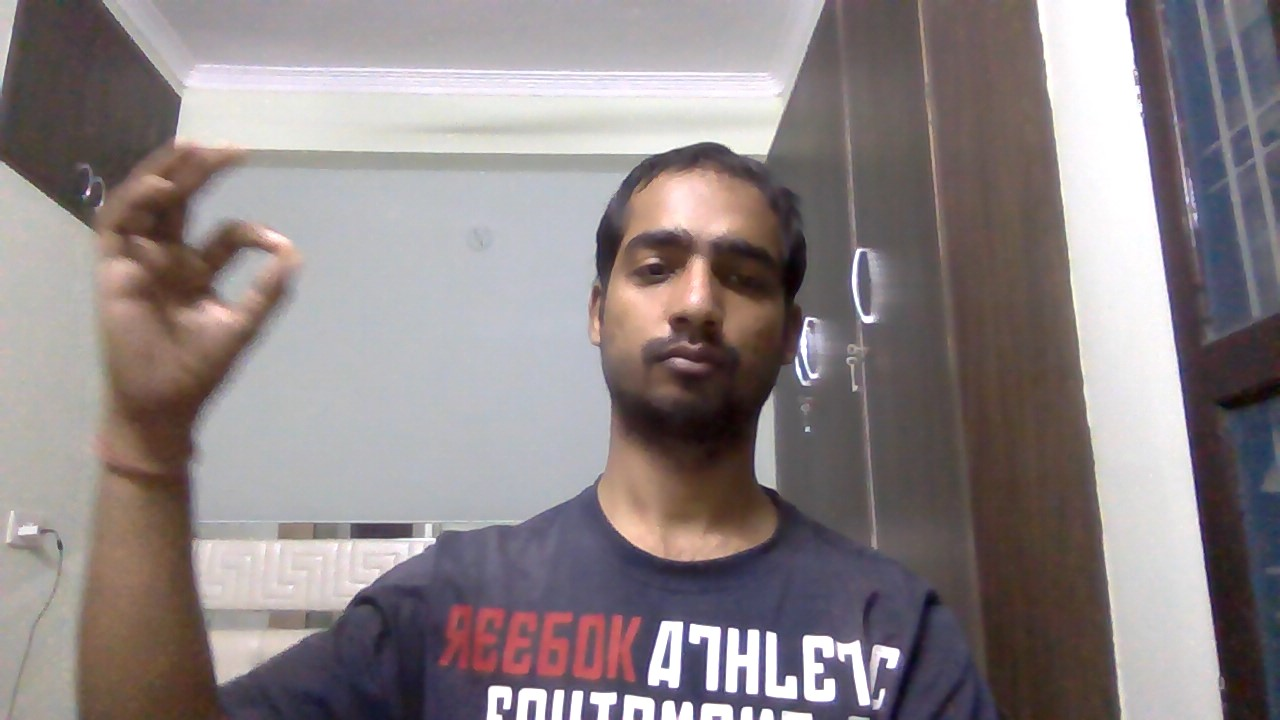Copy: (80, 131, 312, 431)
